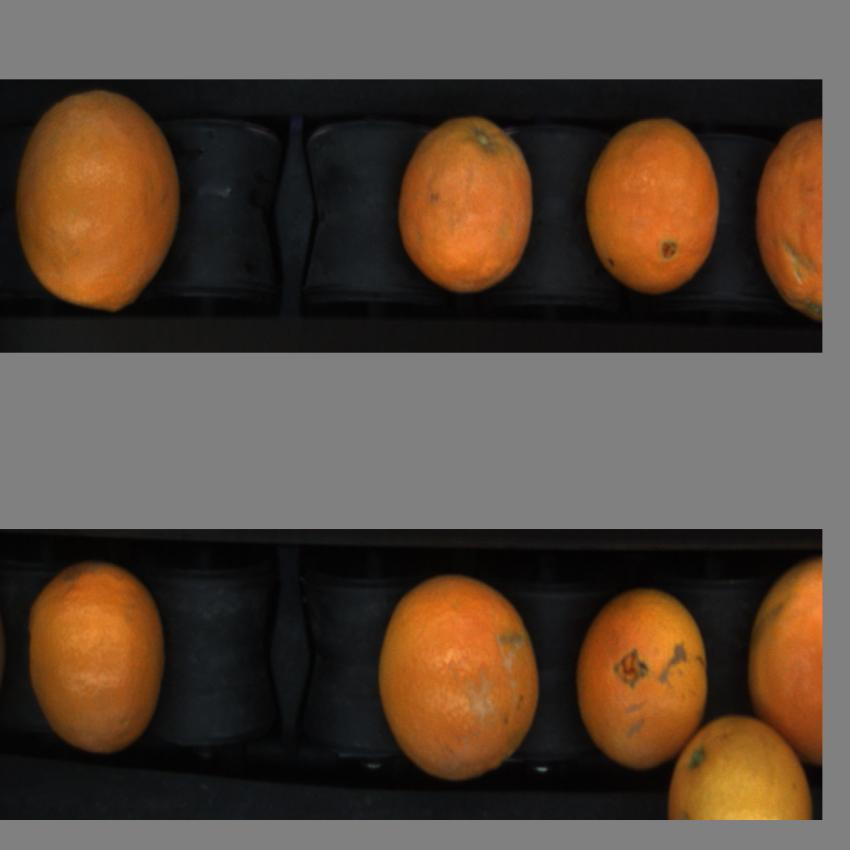Buen estado: (378, 571, 542, 792), (397, 108, 538, 305), (578, 114, 723, 298), (572, 584, 708, 768), (746, 559, 825, 760), (669, 710, 810, 819)
Mal estado: (11, 92, 184, 314), (22, 566, 174, 762), (749, 106, 823, 329)
